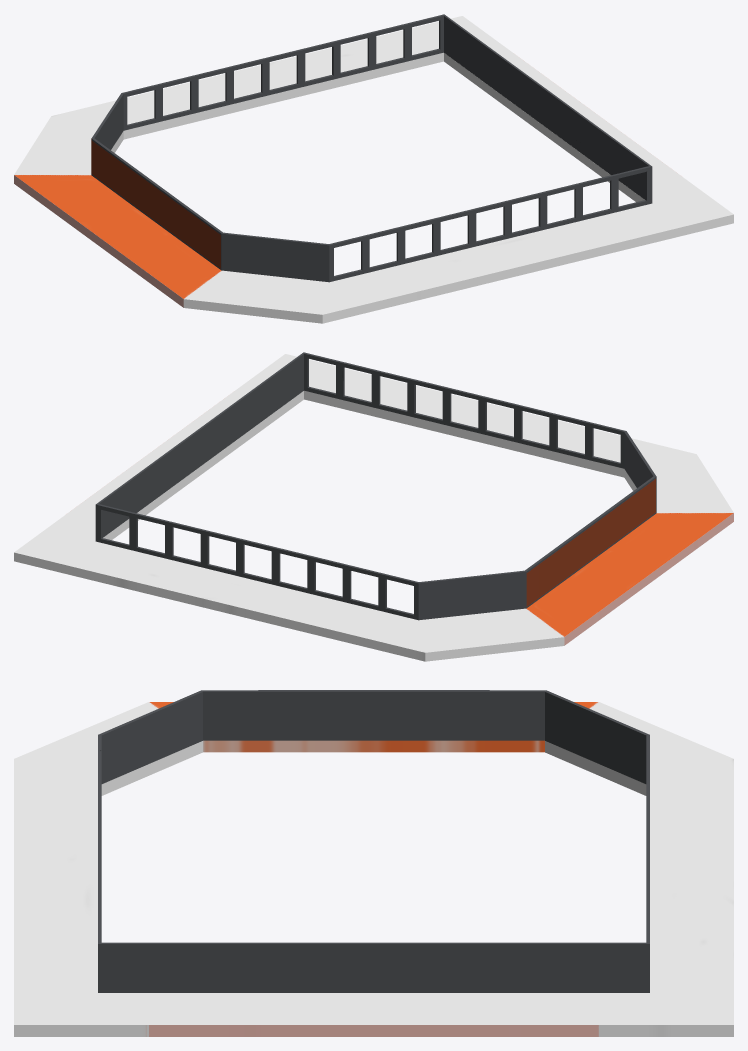
File: first floor.glb
The picture shows the model from 3 angles, top to bottom: view 1: azimuth 30°, elevation 25°; view 2: azimuth 150°, elevation 25°; view 3: azimuth 270°, elevation 25°; orthographic projection. The views are drawn at different scales.
Parts seen in each view (by area): view 1: First floor, Bannister; view 2: First floor, Bannister; view 3: First floor, Bannister.
Boxes of the visible parts, bbox=[...] form: First floor: bbox=[14, 16, 733, 323]; Bannister: bbox=[91, 14, 652, 282]; First floor: bbox=[14, 354, 733, 661]; Bannister: bbox=[95, 352, 656, 620]; First floor: bbox=[14, 702, 733, 1036]; Bannister: bbox=[98, 690, 649, 992].
Bounding box in the file's own units: 42.5 × 3.72 × 40.
Materials: 2 (2 with a texture image).
